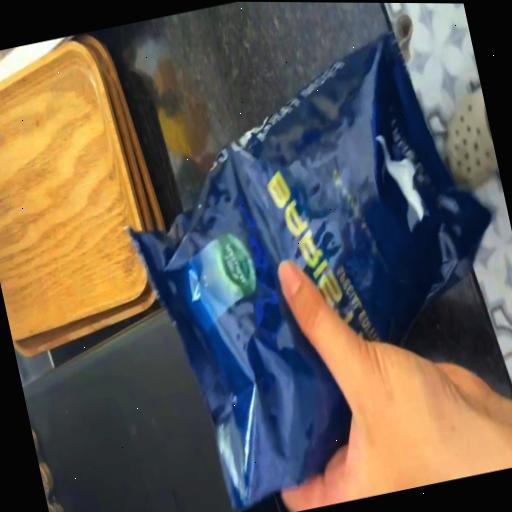cafe_hat: (129, 33, 489, 507)
